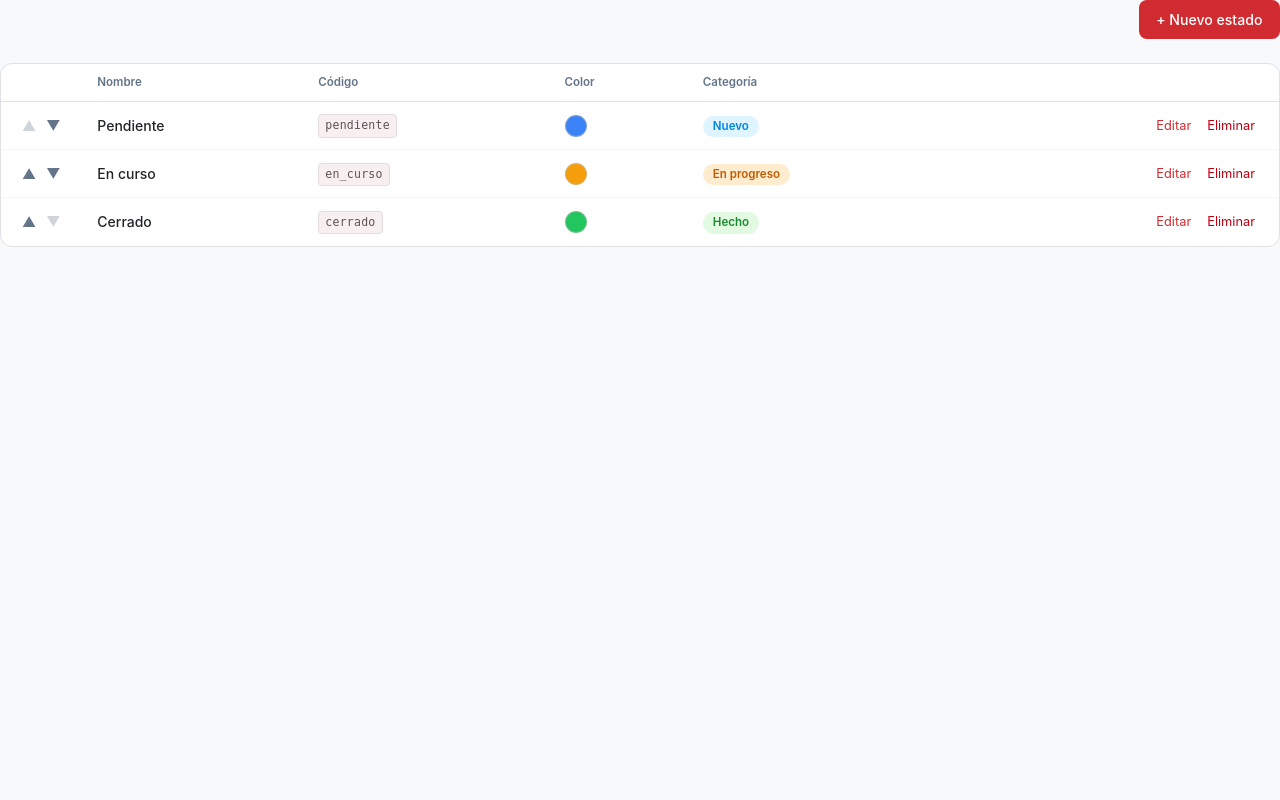
Test case: WorkflowStatesBody › W11 — edit modal shows code as read-only text, not an editable input
The image size is (1280, 800).
Note: Click first Editar button (Pendiente)
Click the 1st button "Editar": (1174, 126) [1148,112,1199,139]
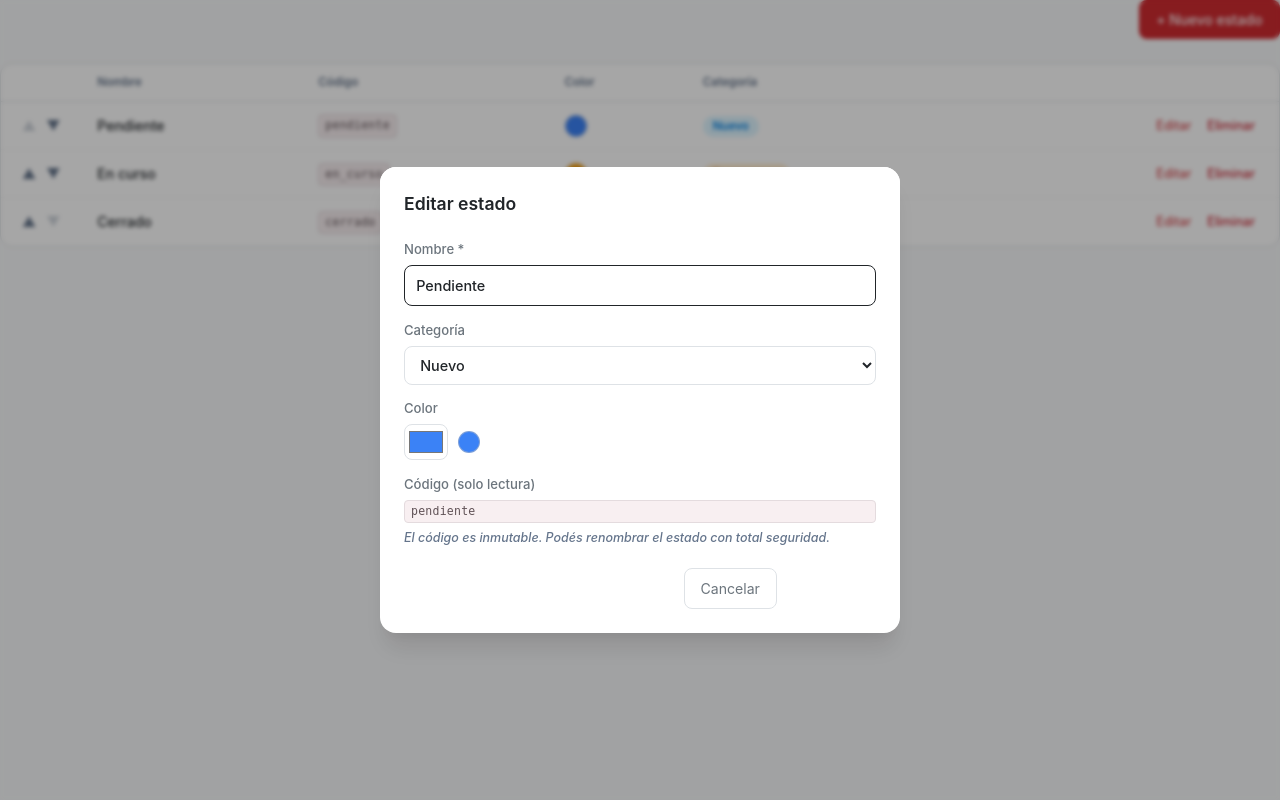
expect the dialog "Editar estado" is shown: met
expect the text named "Código inmutable del estado" is shown: met, box [404,500,876,523]
expect the text "El código es inmutable" is shown: met, box [404,530,830,545]
